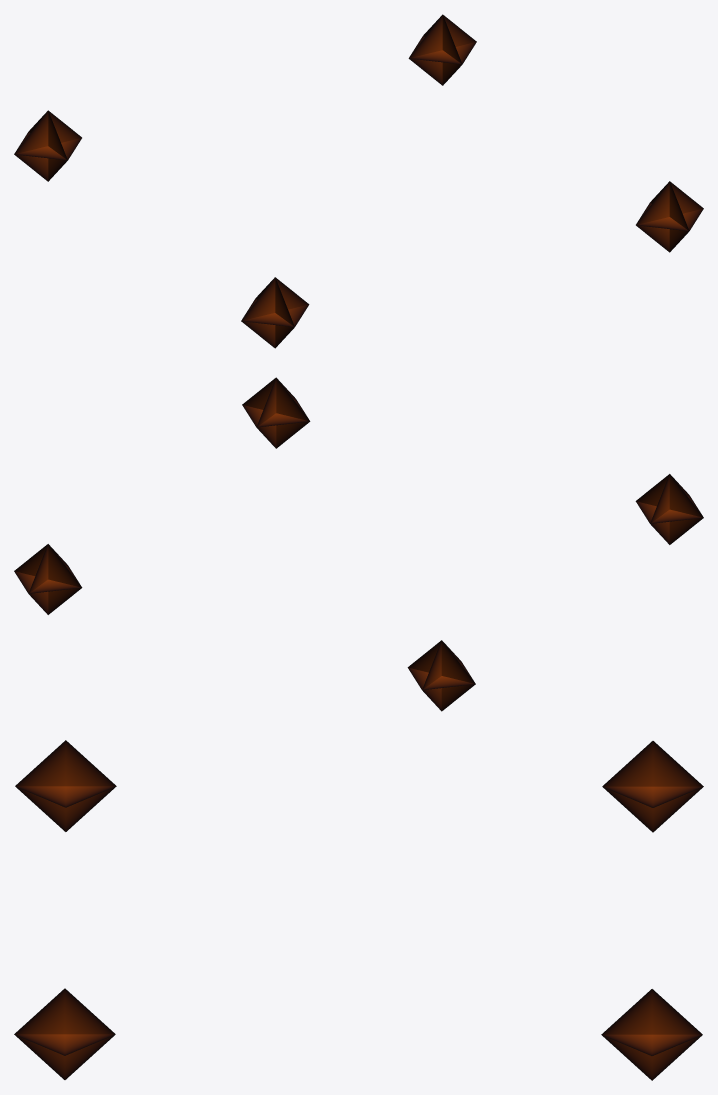
The model's file is CrusherBloom.gltf.
3 views of the same model, one above another, from view 1: azimuth 30°, elevation 25°; view 2: azimuth 150°, elevation 25°; view 3: azimuth 270°, elevation 25° (orthographic). The views are drawn at different scales.
Parts seen in each view (by area): view 1: CrusherBloomMesh; view 2: CrusherBloomMesh; view 3: CrusherBloomMesh.
Part boxes in pixels (bbox=[...]): CrusherBloomMesh: bbox=[14, 14, 703, 348]; CrusherBloomMesh: bbox=[14, 377, 703, 711]; CrusherBloomMesh: bbox=[14, 740, 703, 1080].
Size of the model in its own units: 4.79 by 0.7071 by 4.79.
